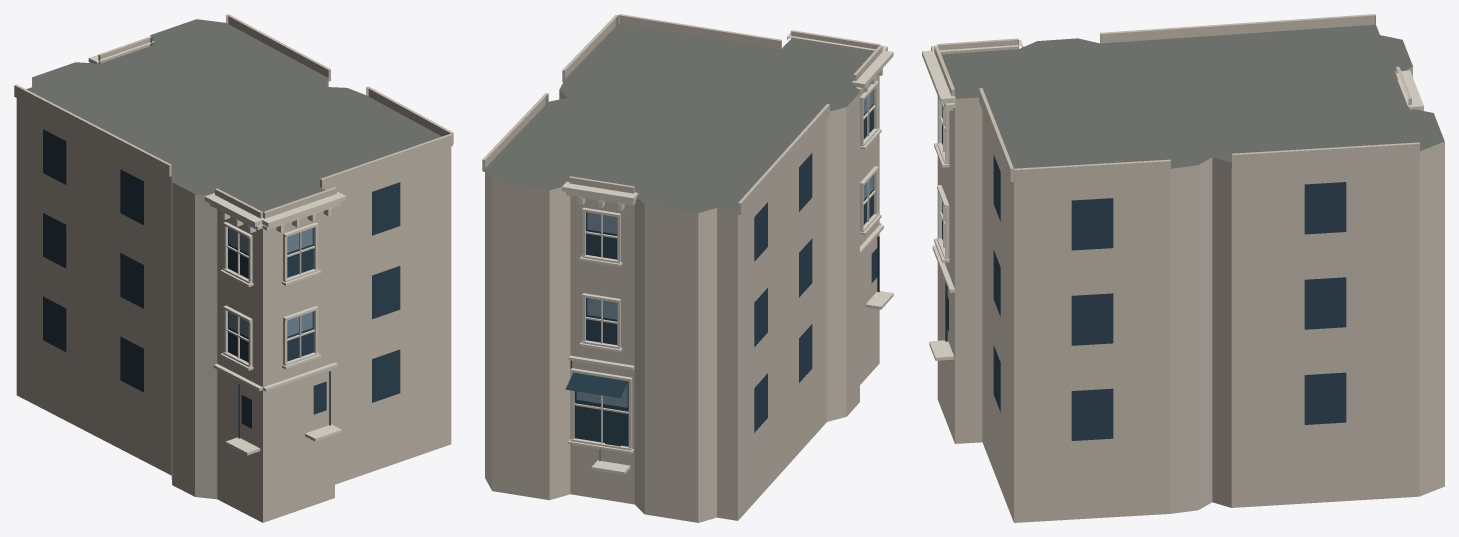
3 renders of one model, left to right at view 1: azimuth 30°, elevation 25°; view 2: azimuth 150°, elevation 25°; view 3: azimuth 270°, elevation 25°, orthographic. The views are drawn at different scales.
Visible parts, largest first — view 1: Footprint 0 / surface 2, Footprint 0 / surface 1, Inset glazing, Cornices and window frames, Facade bay volumes, Sky reflection panels; view 2: Footprint 0 / surface 2, Footprint 0 / surface 1, Cornices and window frames, Inset glazing, Facade bay volumes, Sky reflection panels, Storefronts and doors; view 3: Footprint 0 / surface 2, Footprint 0 / surface 1, Inset glazing, Facade bay volumes, Cornices and window frames.
Part boxes in pixels (x1,y1,x2,y2): Footprint 0 / surface 2: [16, 36, 451, 522]; Footprint 0 / surface 1: [26, 19, 441, 211]; Inset glazing: [43, 129, 400, 428]; Cornices and window frames: [88, 41, 346, 455]; Facade bay volumes: [14, 14, 453, 218]; Sky reflection panels: [228, 228, 312, 337]; Footprint 0 / surface 2: [485, 75, 879, 522]; Footprint 0 / surface 1: [485, 23, 872, 213]; Cornices and window frames: [562, 33, 893, 474]; Inset glazing: [574, 89, 877, 446]; Facade bay volumes: [482, 14, 882, 214]; Sky reflection panels: [576, 90, 873, 407]; Storefronts and doors: [565, 236, 879, 461]; Footprint 0 / surface 2: [937, 66, 1444, 522]; Footprint 0 / surface 1: [941, 24, 1444, 168]; Inset glazing: [942, 116, 1346, 440]; Facade bay volumes: [934, 14, 1419, 183]; Cornices and window frames: [922, 40, 1423, 360].
Size of the model in its own units: 12.72 by 13.46 by 18.
